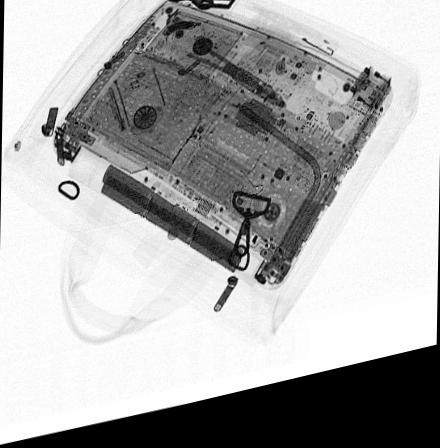Scissors: (185, 52, 290, 126)
